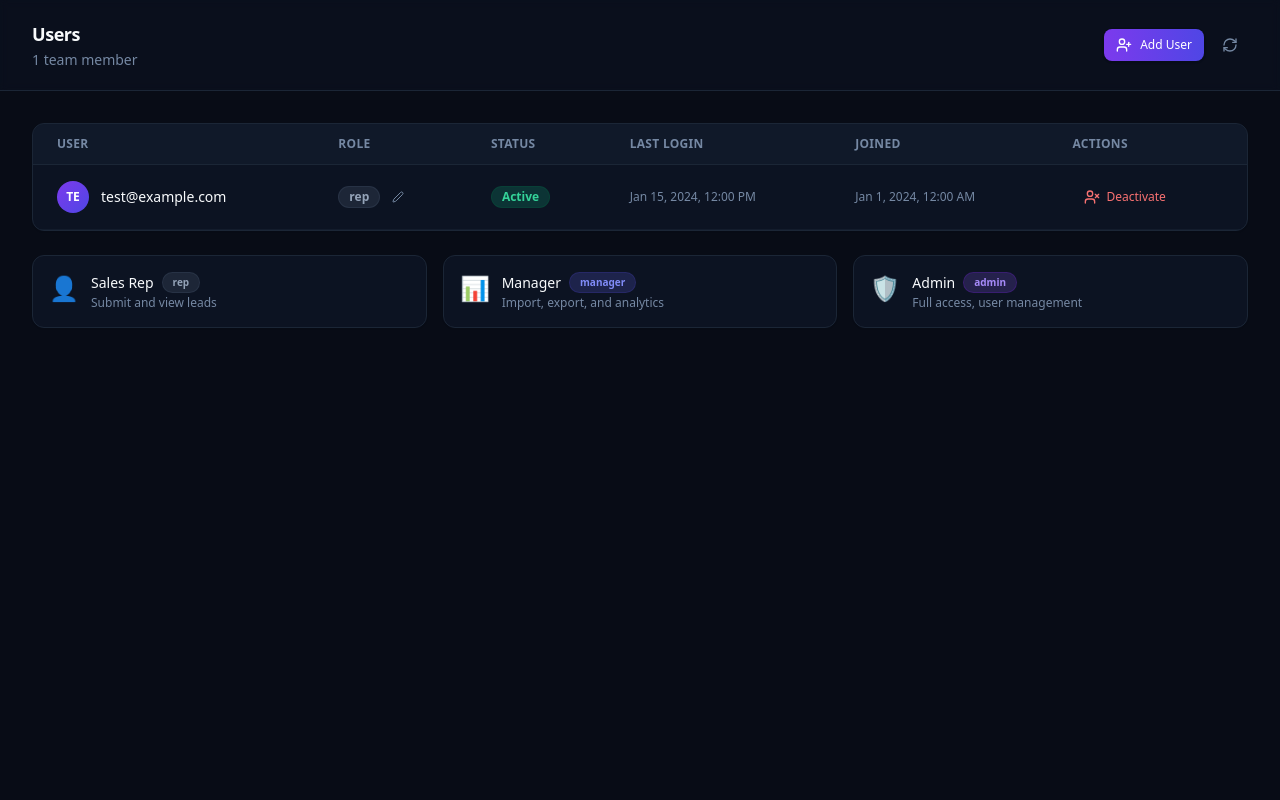
it: Users page › shows the server reason when changeRole API fails
Expected: the text "test@example.com" is shown, [101,187,226,207]
Click the button with class "rounded". click: (398, 197)
box: [388,187,408,207]
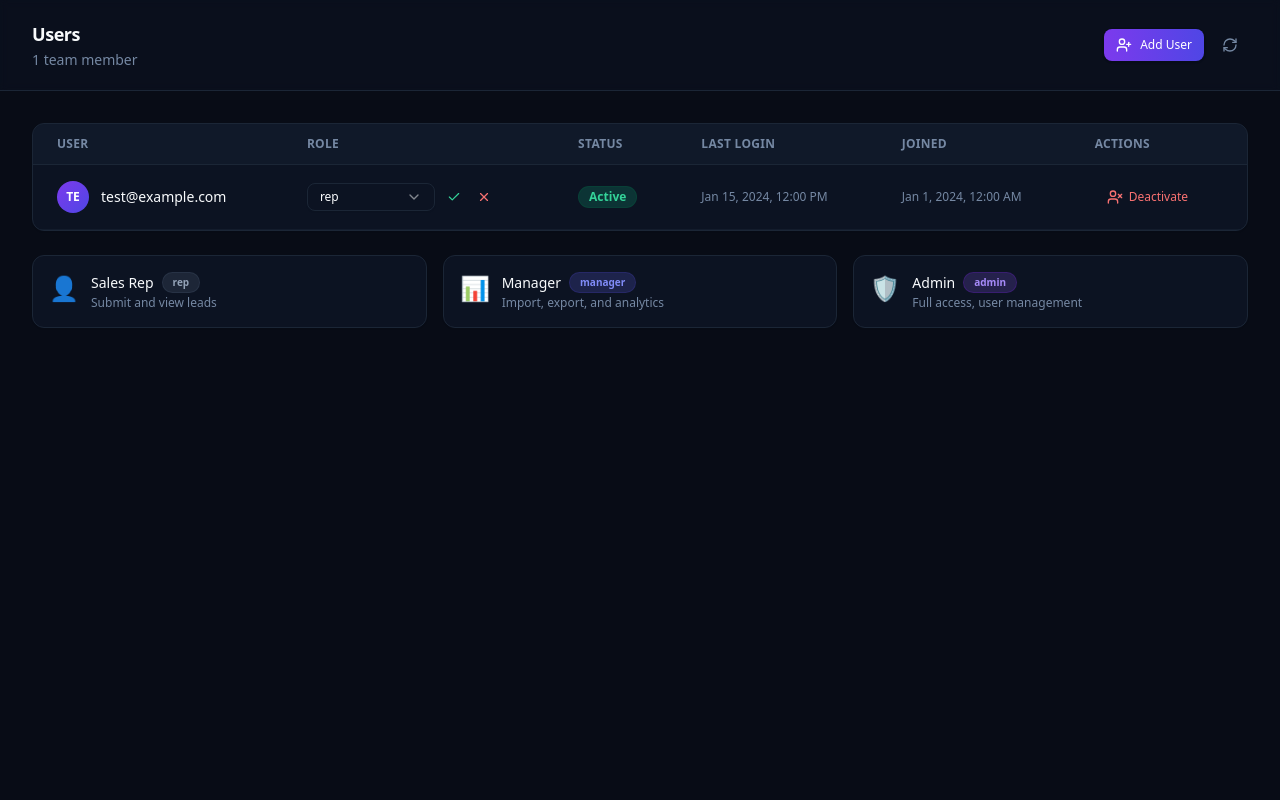
Click the 3rd button. click: (454, 197)
box: [443,186,465,208]
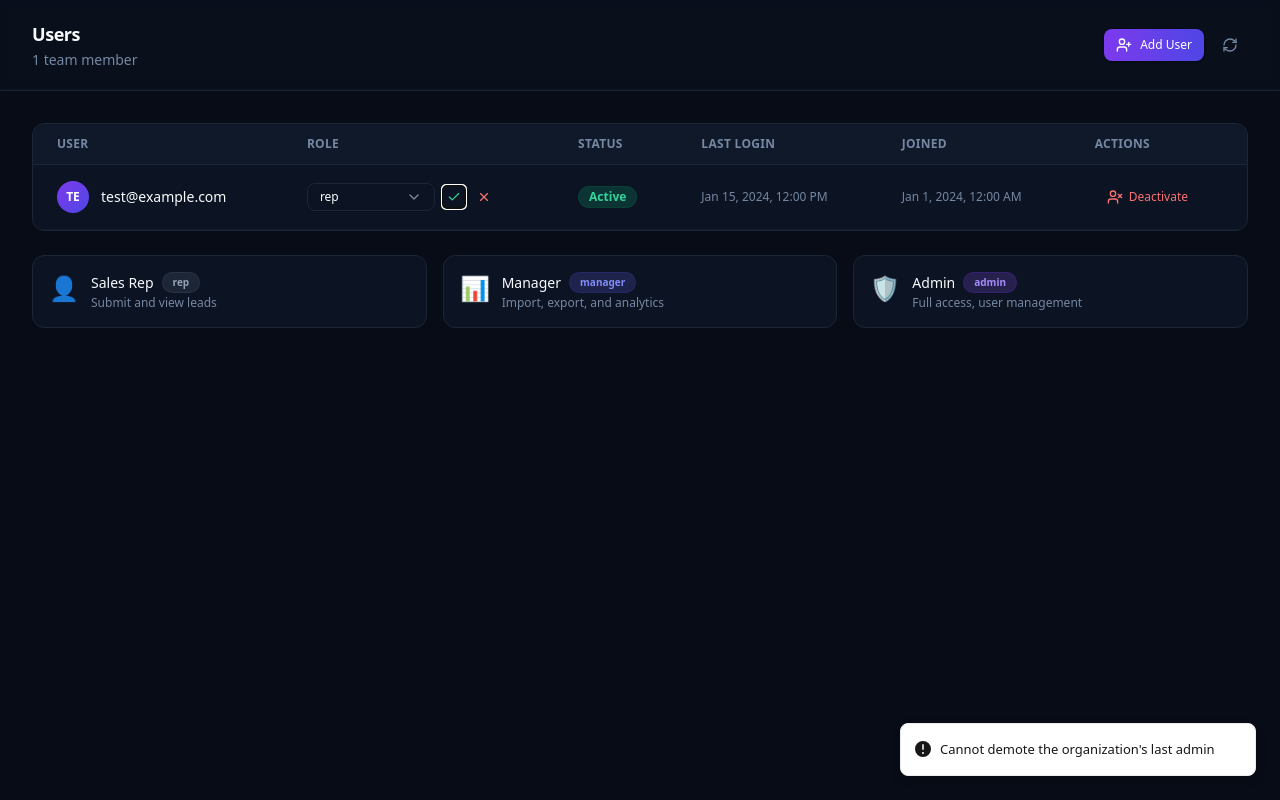
Result: the text "Cannot demote the organization's last admin" is shown at [940,740,1215,759]
